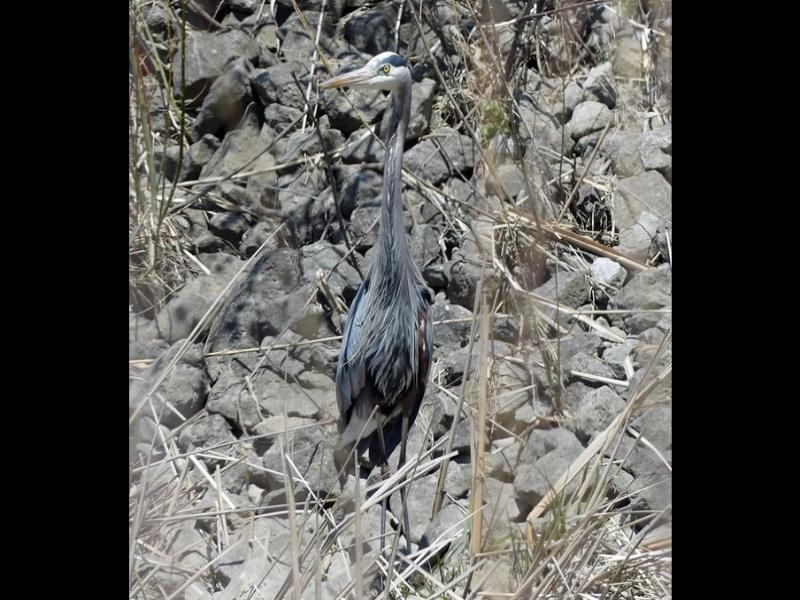heron: (317, 30, 447, 565)
